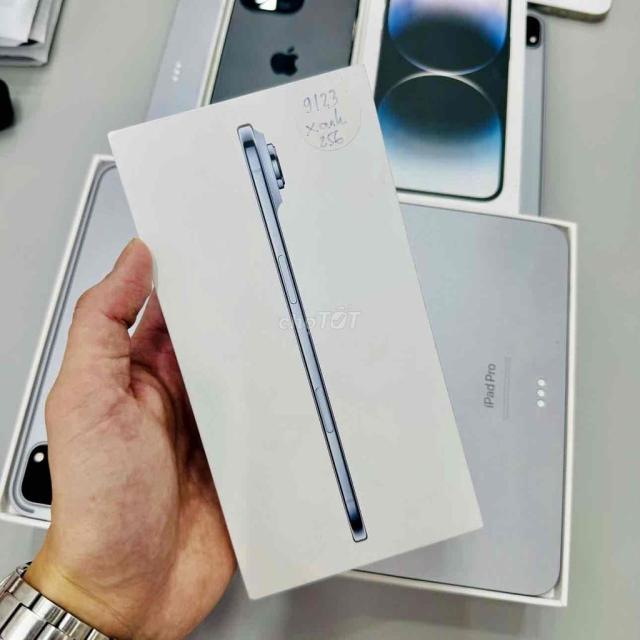gen_17: (224, 106, 385, 551)
